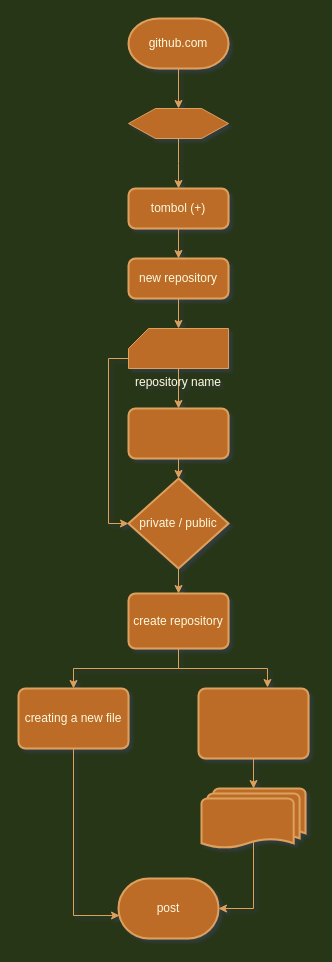
This 332x962 diagram has some shape labels left out. Here are the shapes that lost their labels. From the top down, the centre of each, then its label:
the point at 178,123: login
the point at 178,433: description
the point at 253,723: uploading an exiting file
the point at 253,818: choose file
